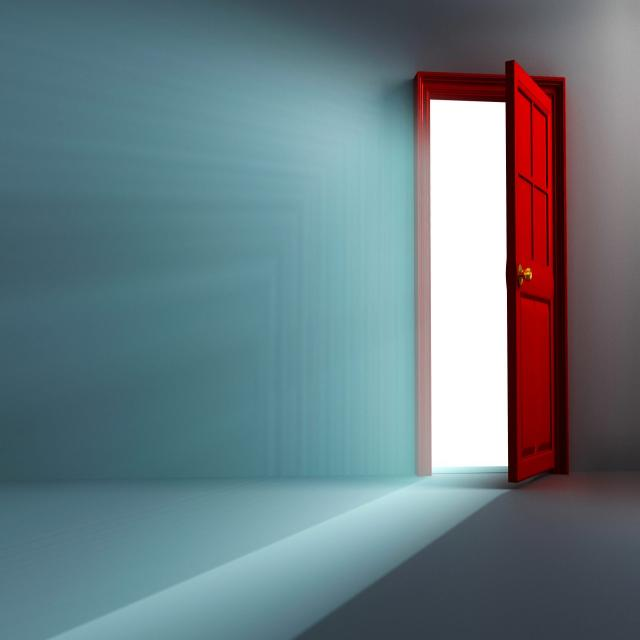open: (420, 77, 564, 470)
